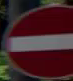No entry: (7, 12, 72, 69)
